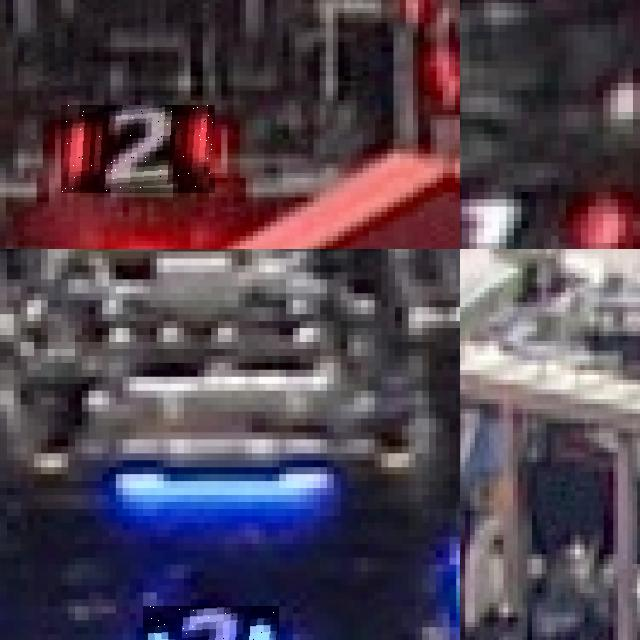B2: (143, 606, 279, 640)
R1: (460, 170, 625, 249)
R2: (61, 105, 215, 193)
